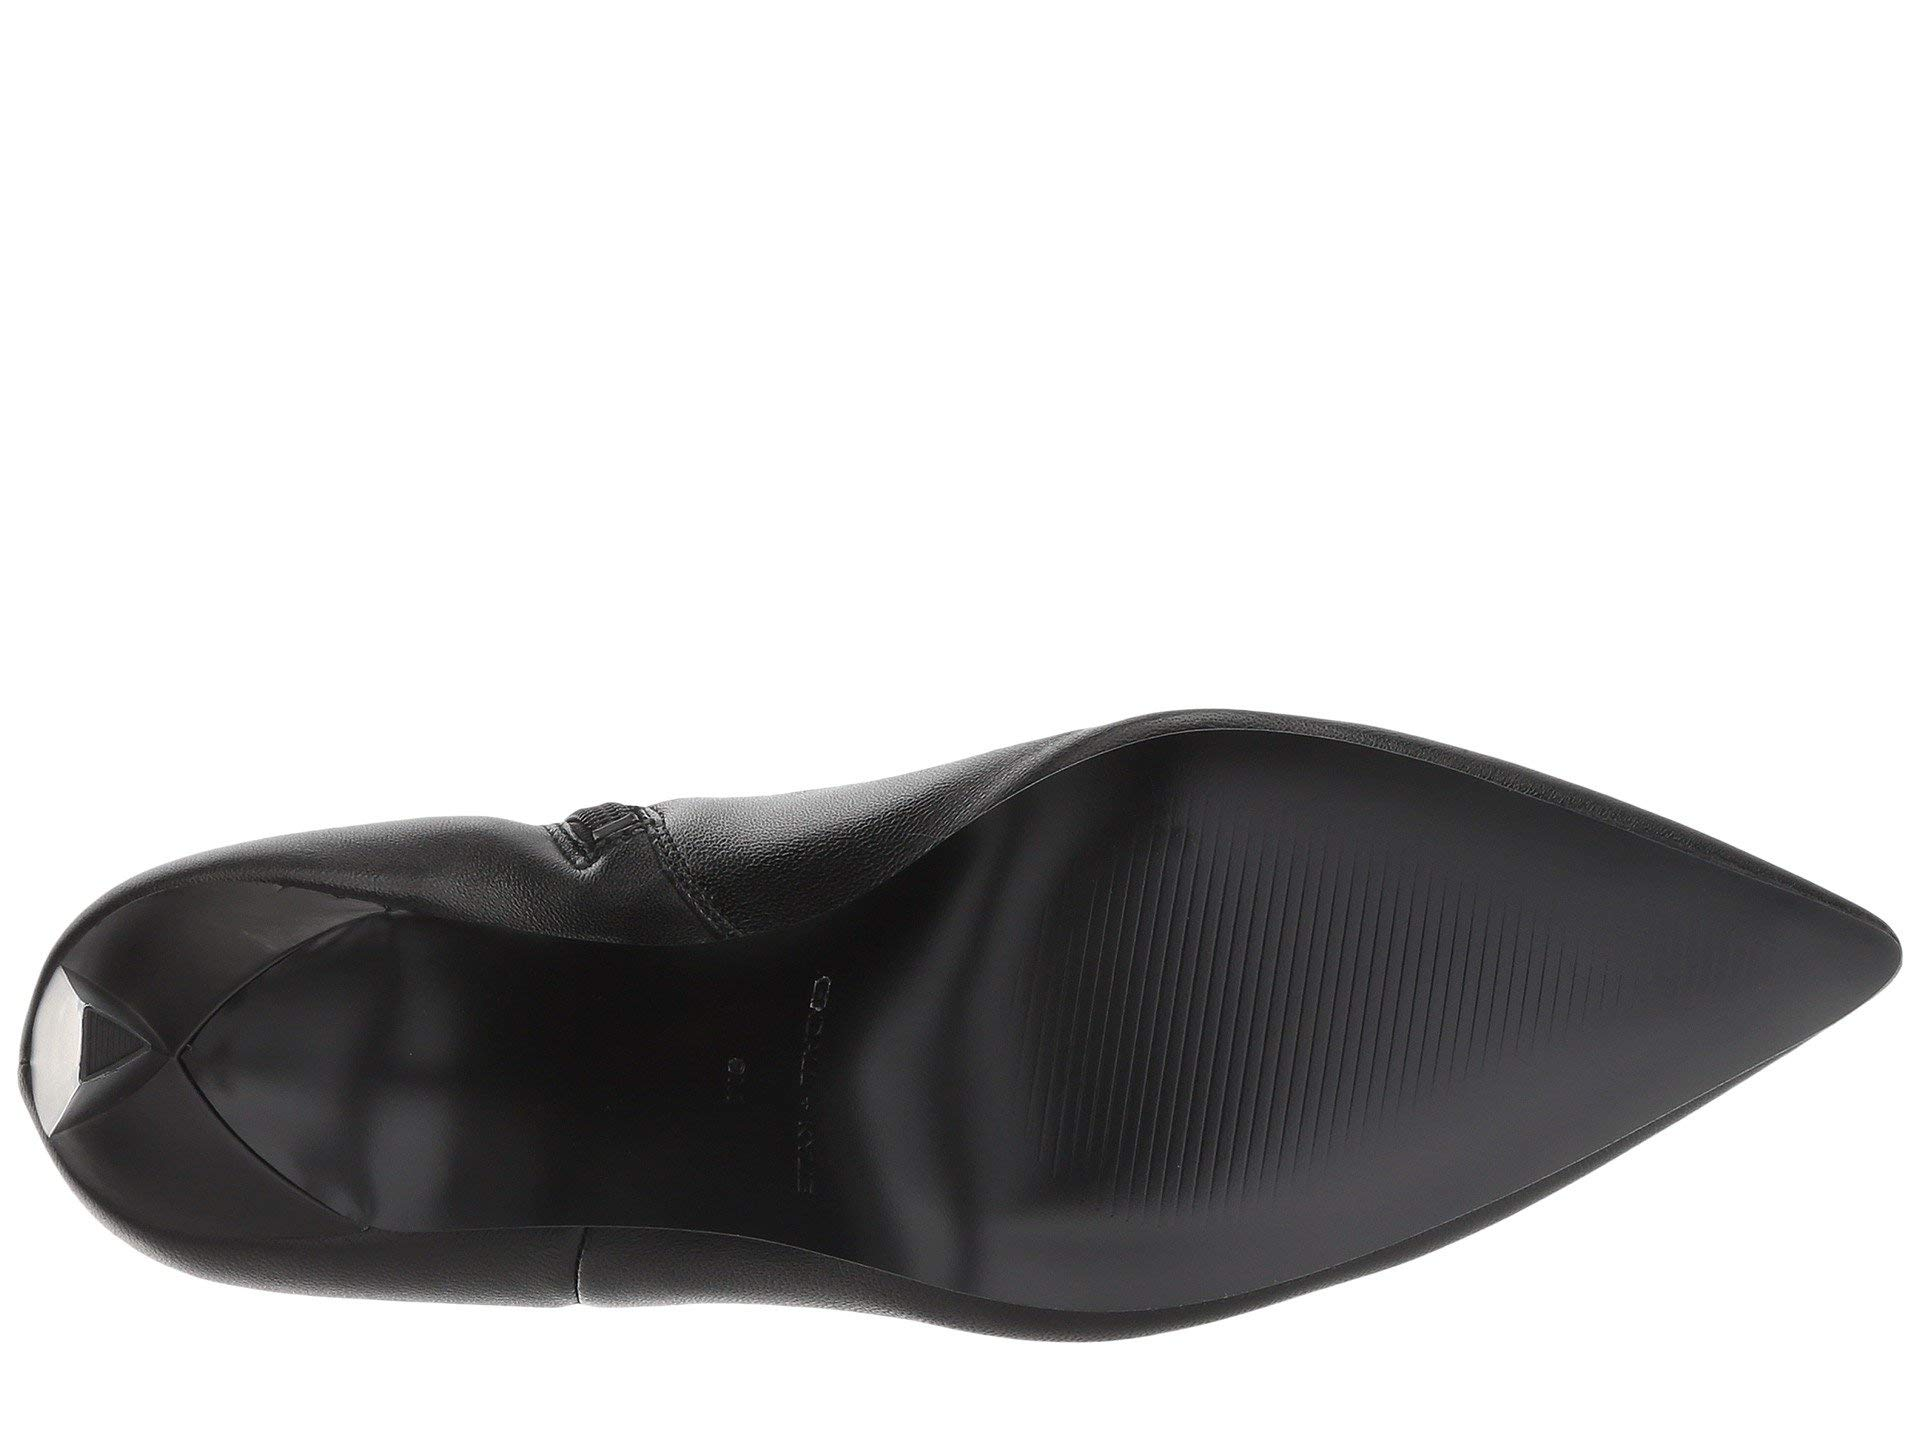line: (1066, 806, 1596, 1141)
text: (683, 936, 921, 1225)
